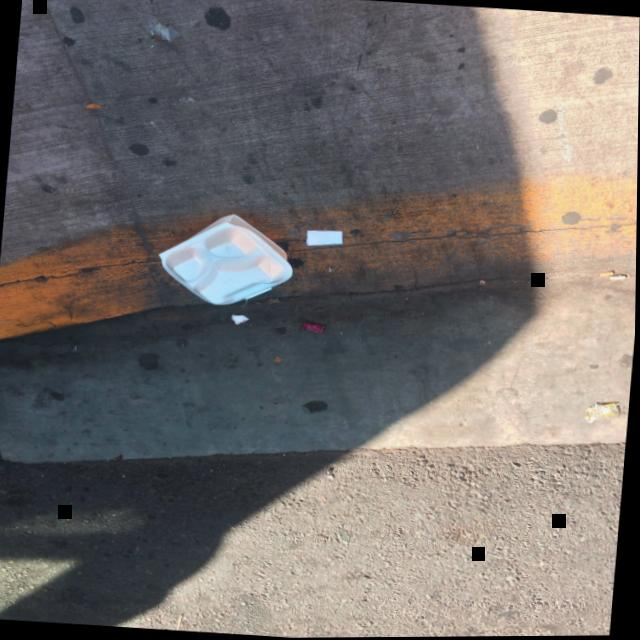Cigarette: (599, 271, 615, 277), (608, 276, 626, 281)
Foam food container: (159, 214, 293, 305)
Other plastic: (302, 322, 325, 334)
Plastic film: (136, 12, 199, 41)
Unlabeled litter: (307, 231, 343, 246), (232, 315, 250, 325)
